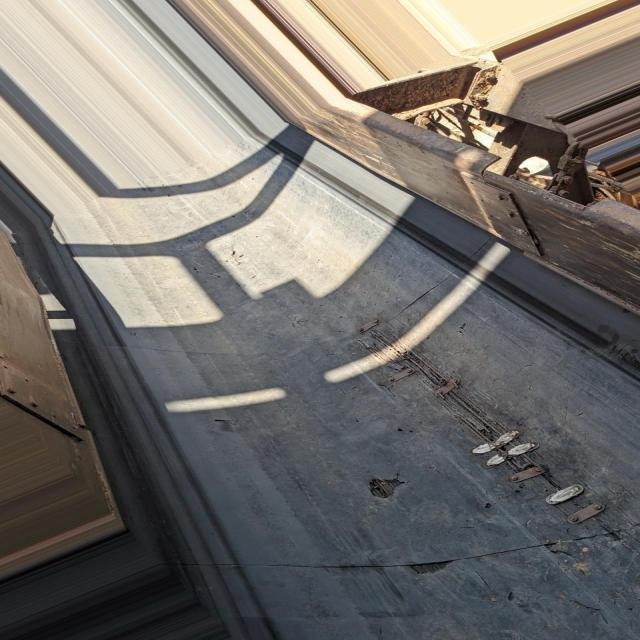Tear: (266, 520, 639, 578), (358, 464, 415, 499), (403, 276, 443, 313), (200, 415, 240, 435)
patch work: (354, 315, 617, 532)
